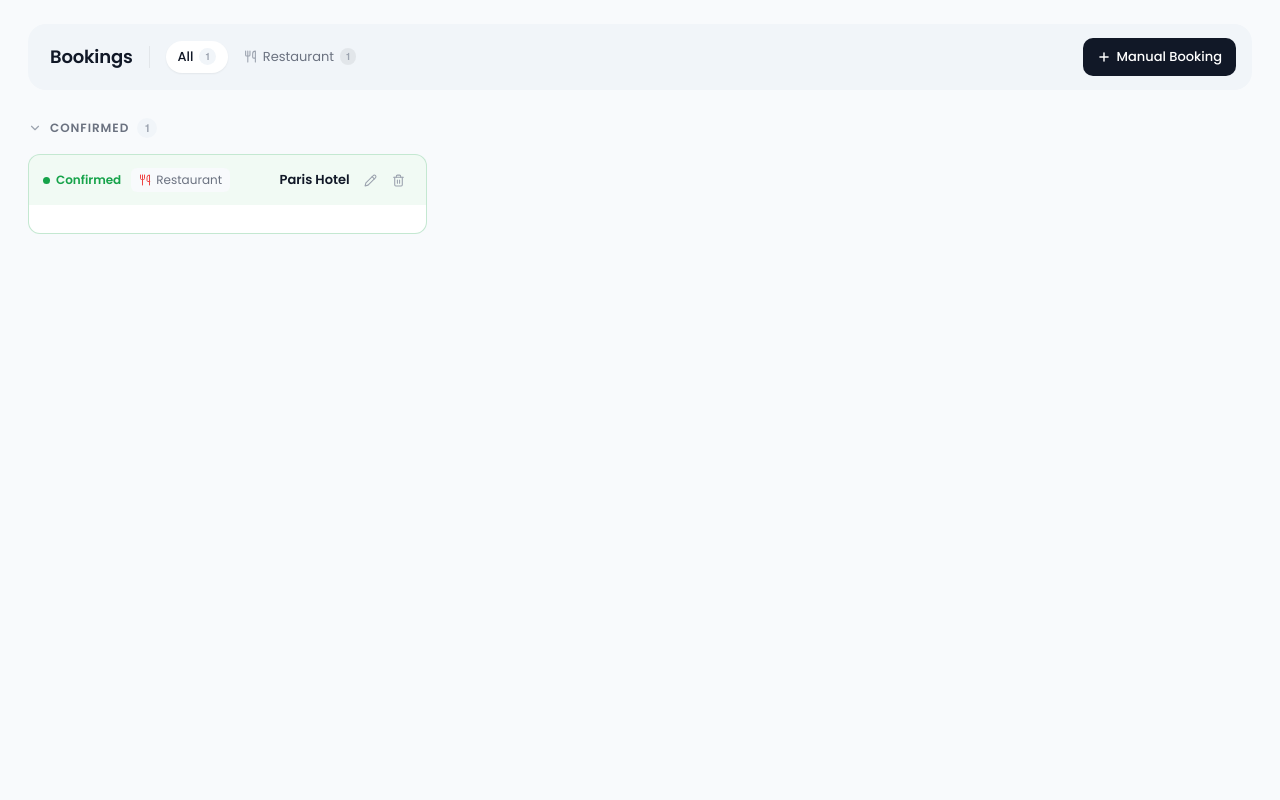
Scenario: ReservationsPanel › FE-PLANNER-RESP-034: delete confirm dialog shows reservation title
The image size is (1280, 800).
Click the button titled "Delete" at (399, 180), box left=386, top=167, right=412, bottom=193
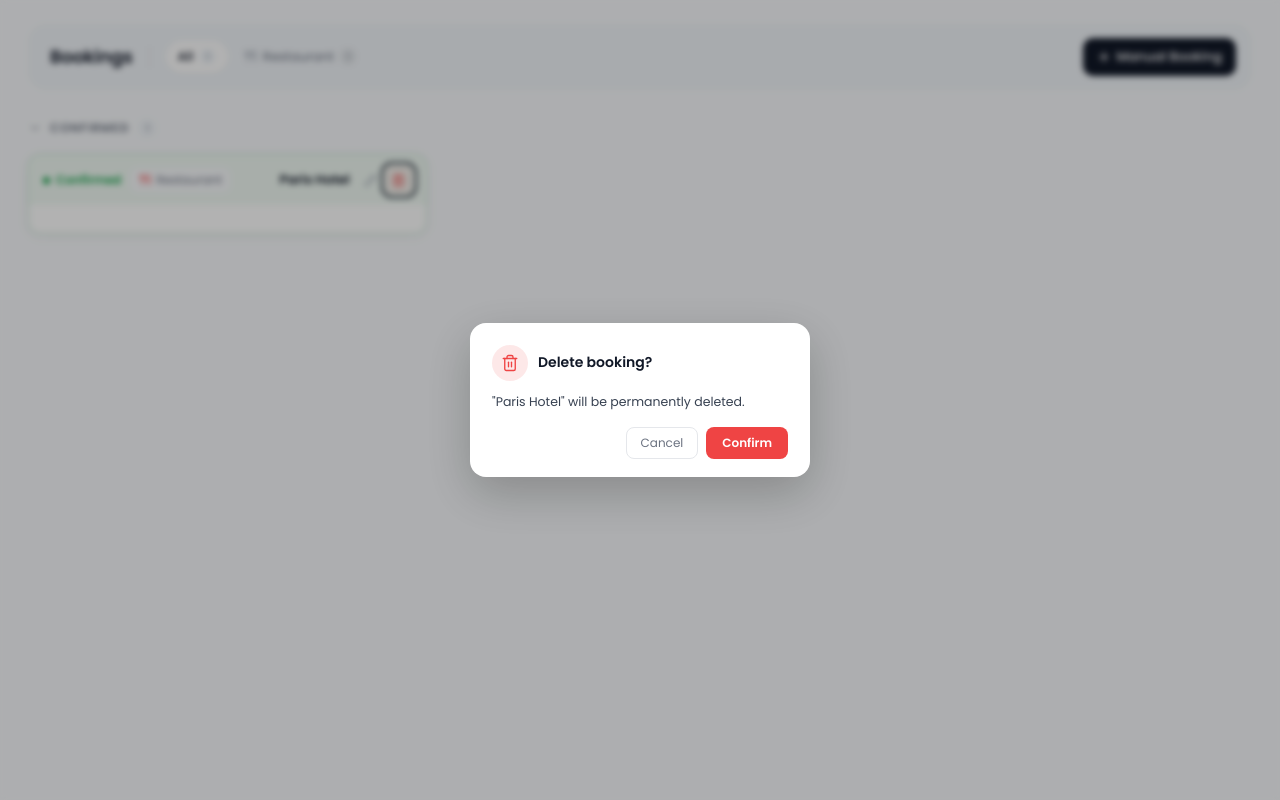
Expected: the text "\"Paris Hotel\" will be permanently deleted." is shown, left=492, top=393, right=788, bottom=411
